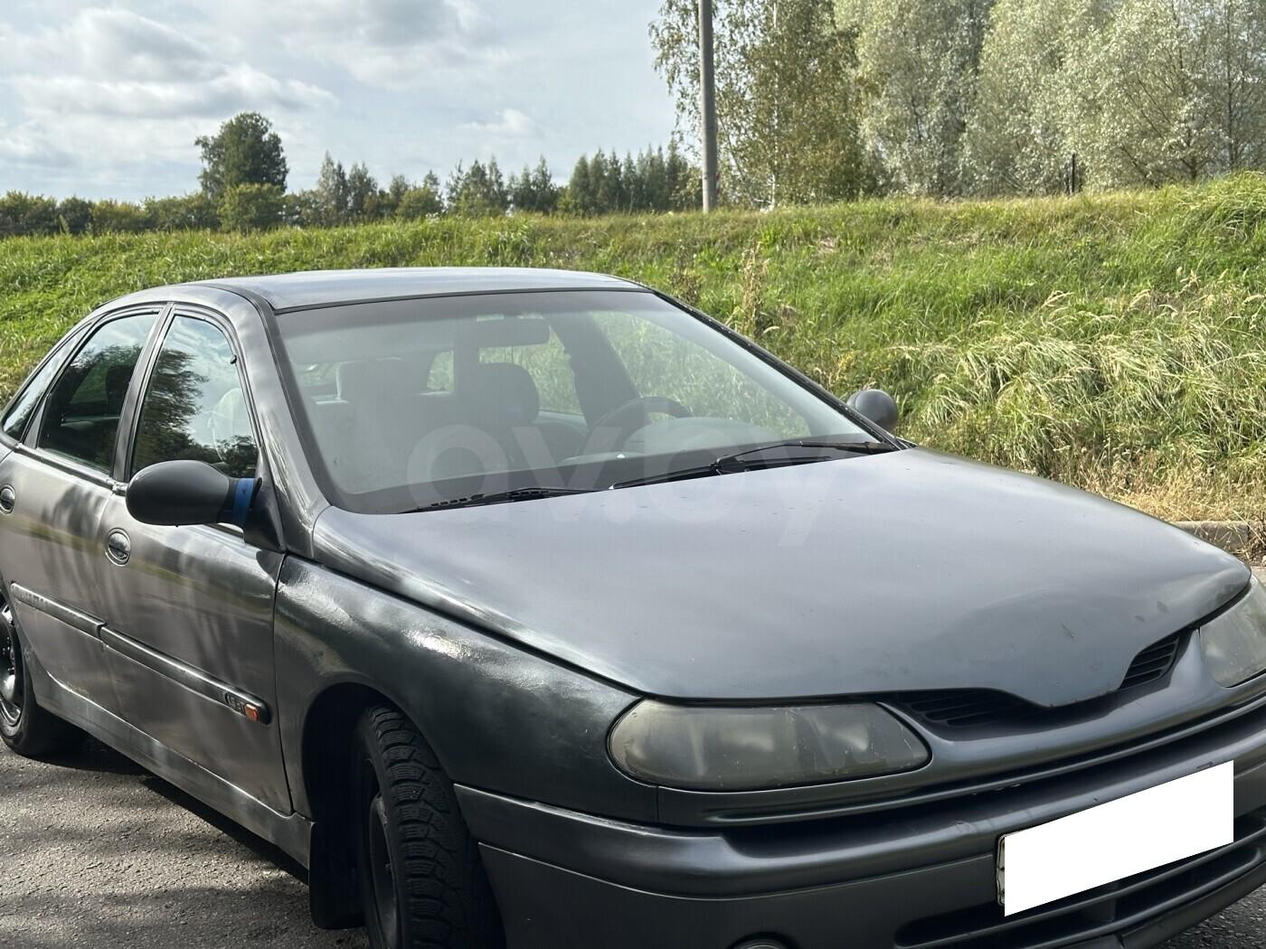Laguna_1998-2001: (0, 251, 1266, 949)
